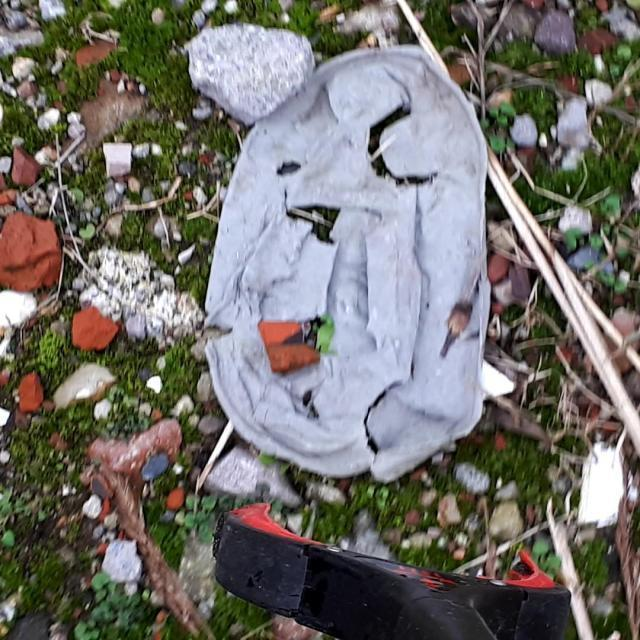Paper: (198, 42, 494, 488)
